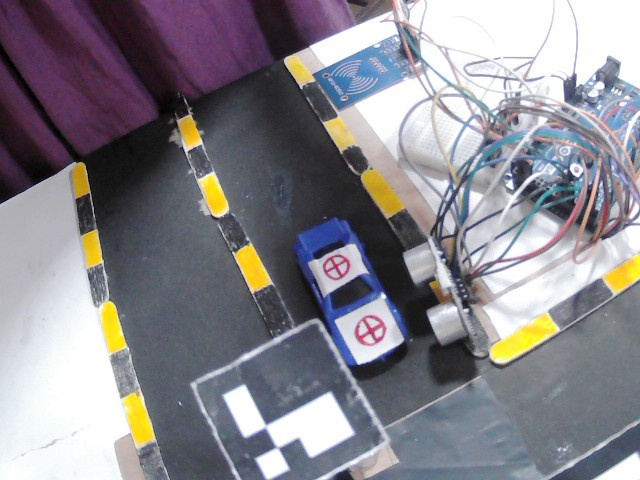aruco_marker: (187, 323, 386, 480)
emergency_vehicle: (293, 213, 411, 373)
uno_breadboard: (505, 56, 640, 237), (395, 62, 553, 185), (400, 232, 486, 351), (313, 29, 432, 110)
